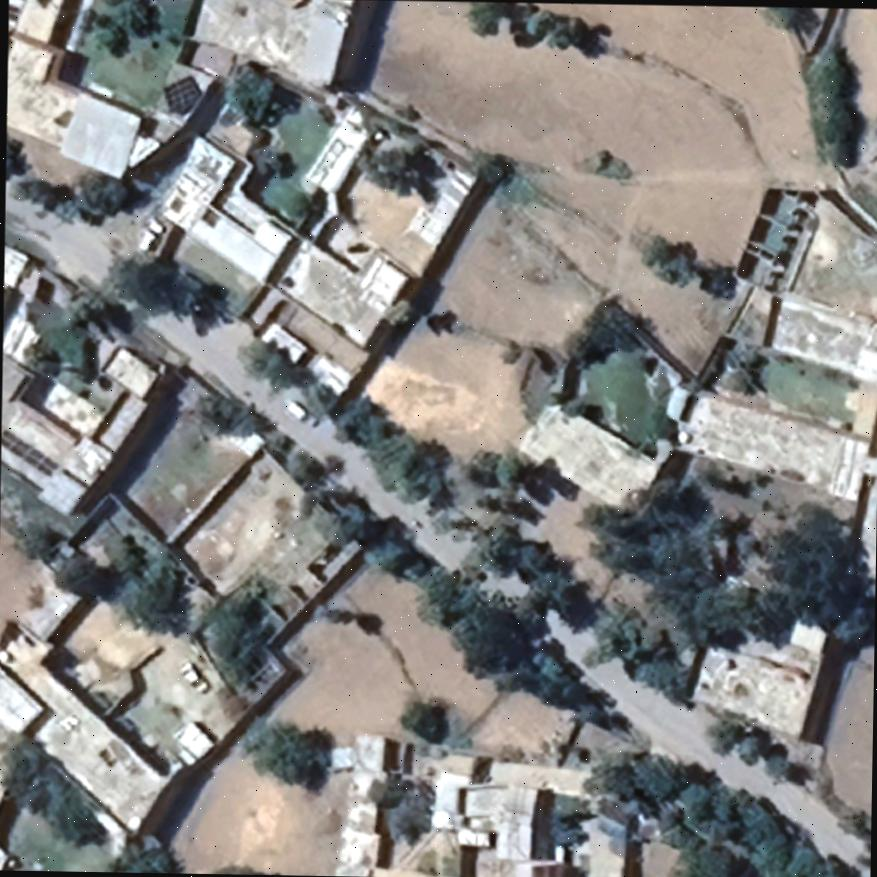Solarpanel: (2, 424, 60, 477), (156, 70, 199, 119)
